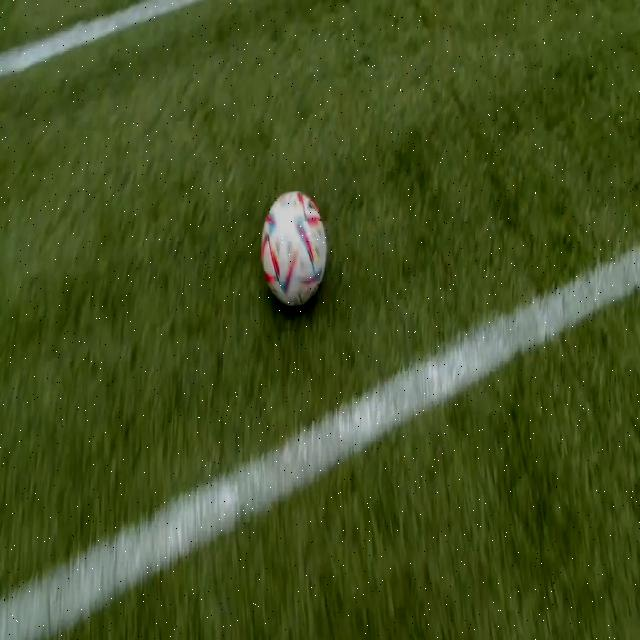ball: (262, 191, 326, 308)
